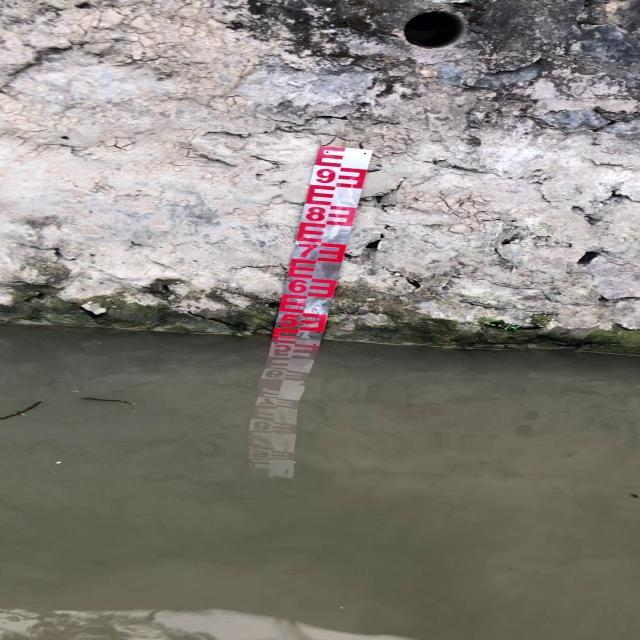ruler: (262, 139, 378, 350)
value: (300, 202, 329, 225), (310, 164, 338, 187), (284, 274, 310, 297), (292, 240, 320, 261), (276, 309, 302, 331)
